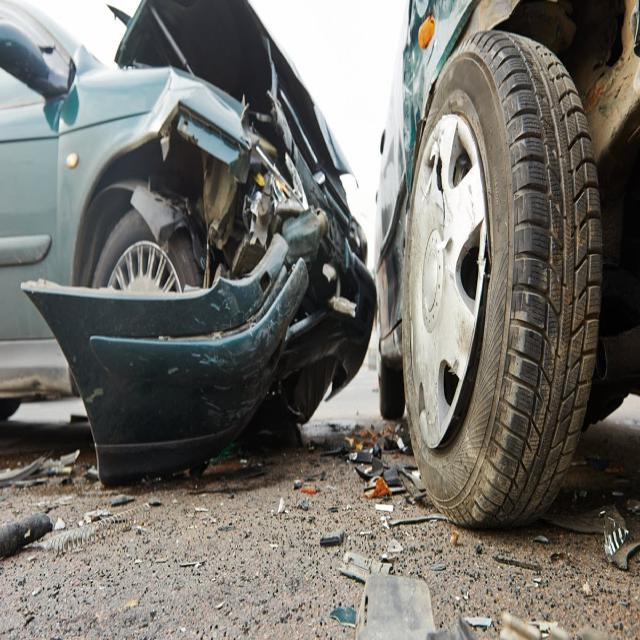Accident: (0, 0, 378, 500)
